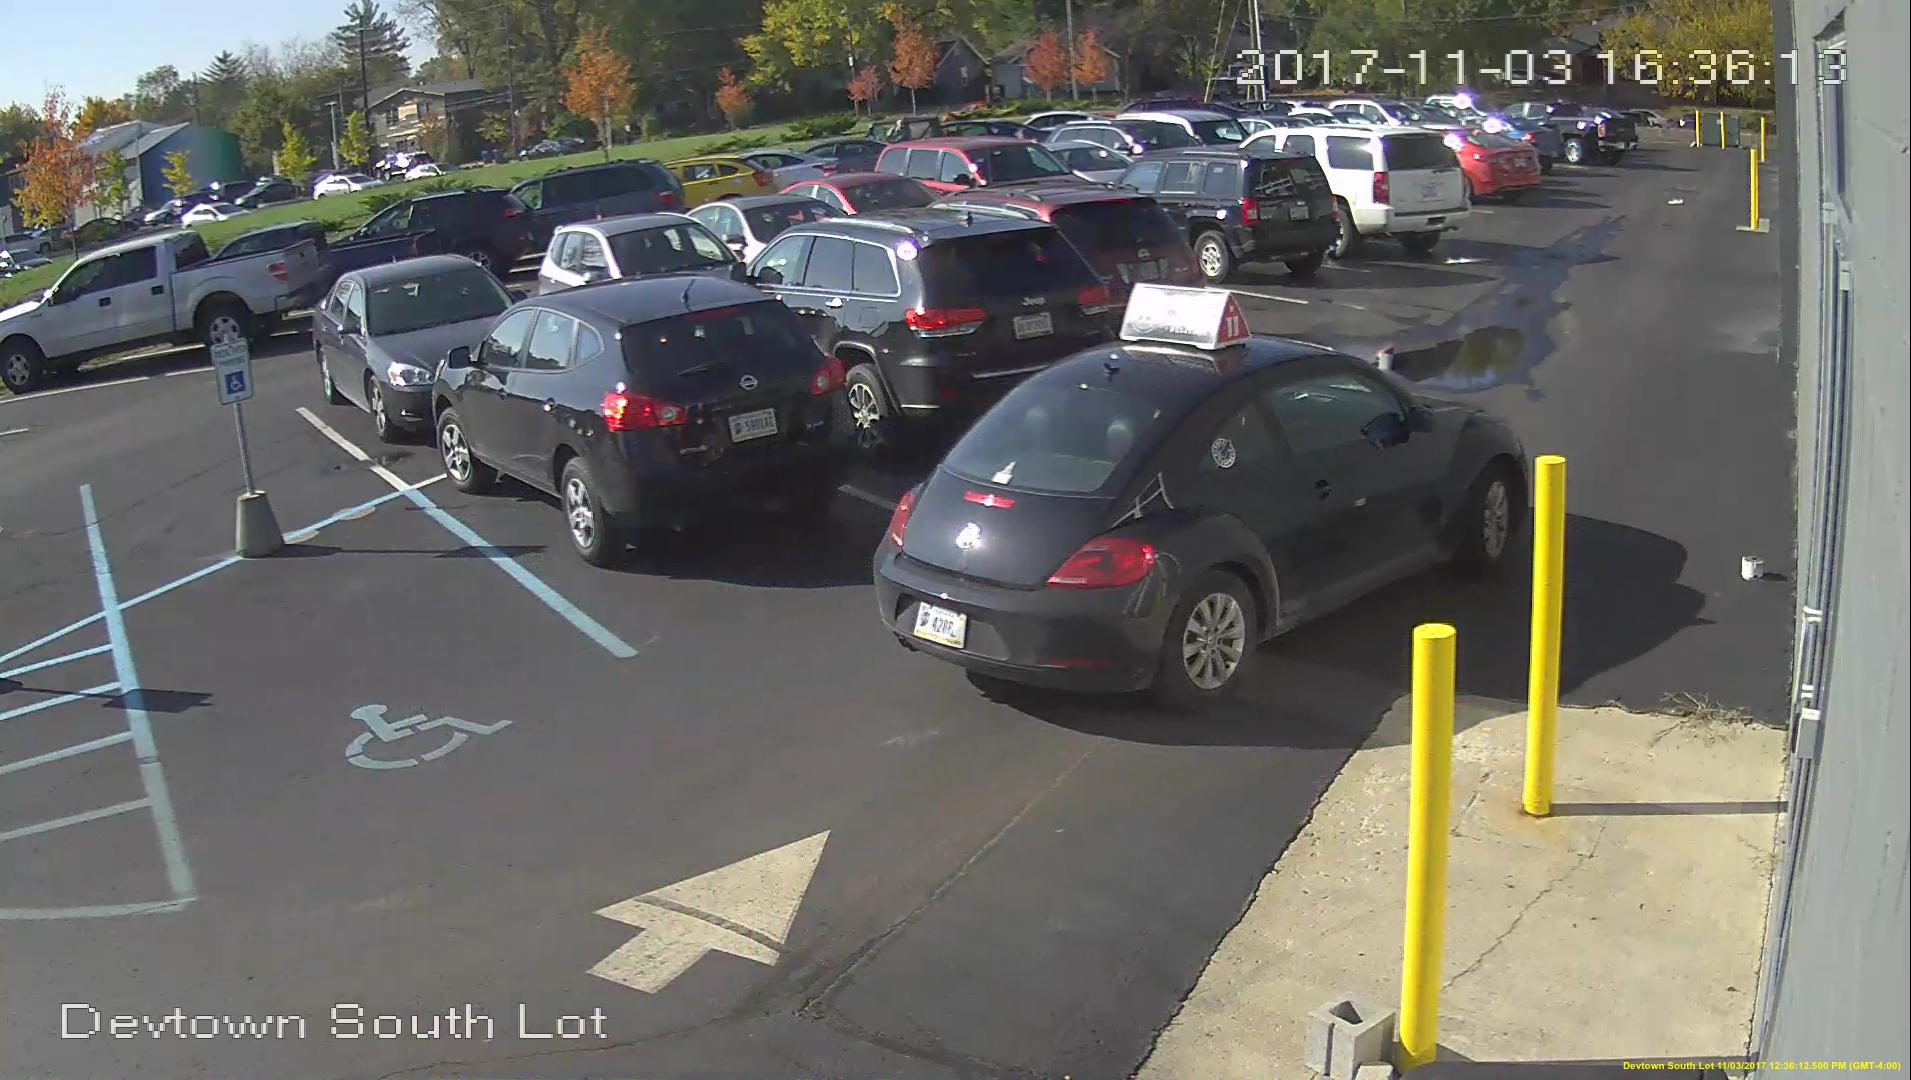jimmy_johns: (1120, 280, 1256, 357)
